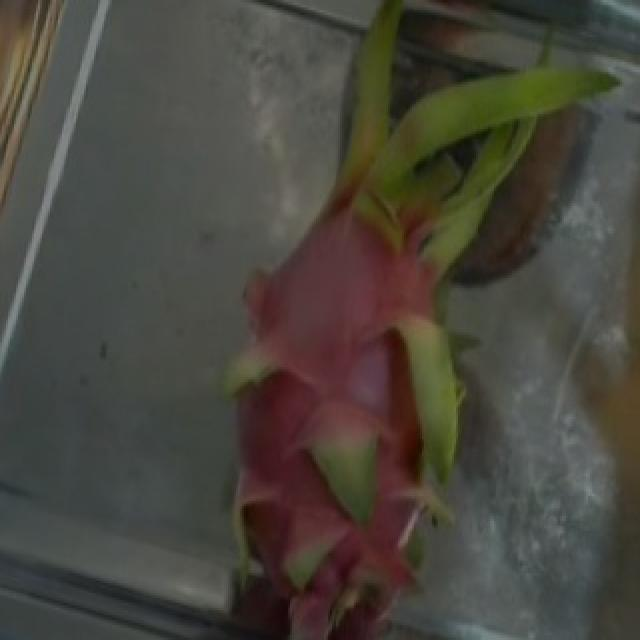fruit: (140, 225, 574, 638), (204, 2, 634, 392)
